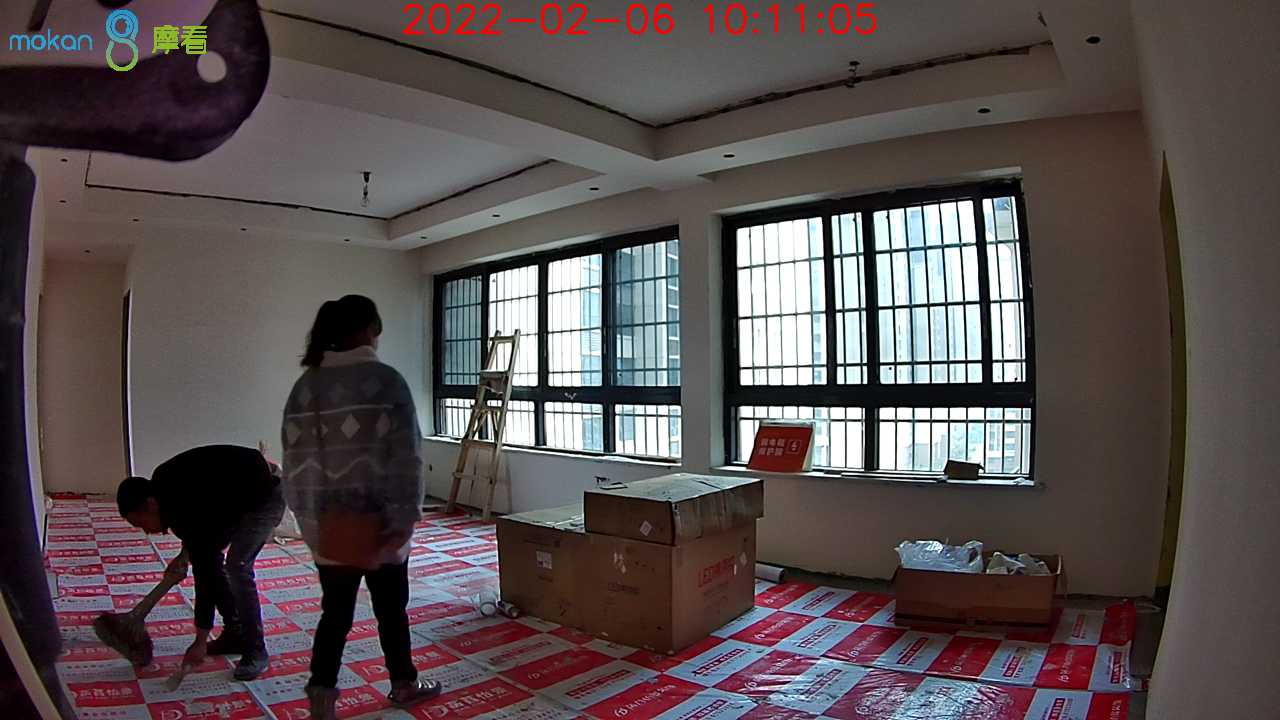people: (286, 299, 446, 715), (115, 441, 293, 679)
window: (436, 187, 1035, 492)
